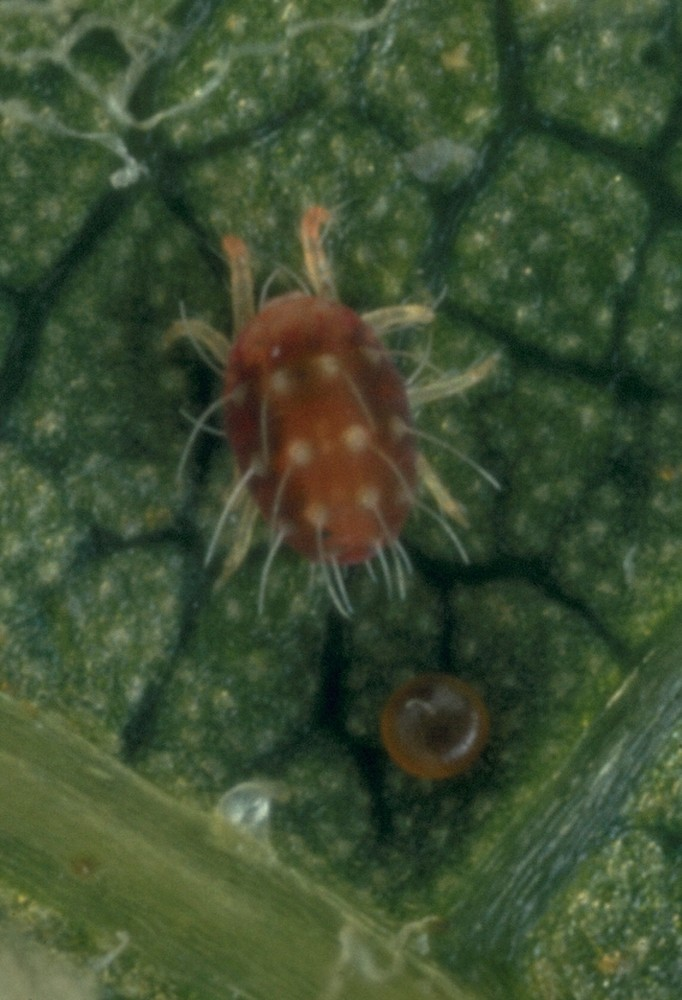Aracnido Rojo: (151, 193, 530, 639)
